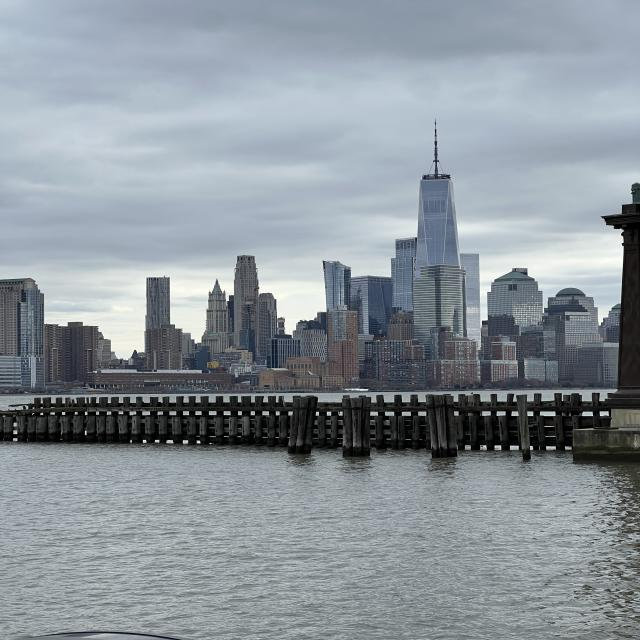WTC: (414, 117, 460, 270)
